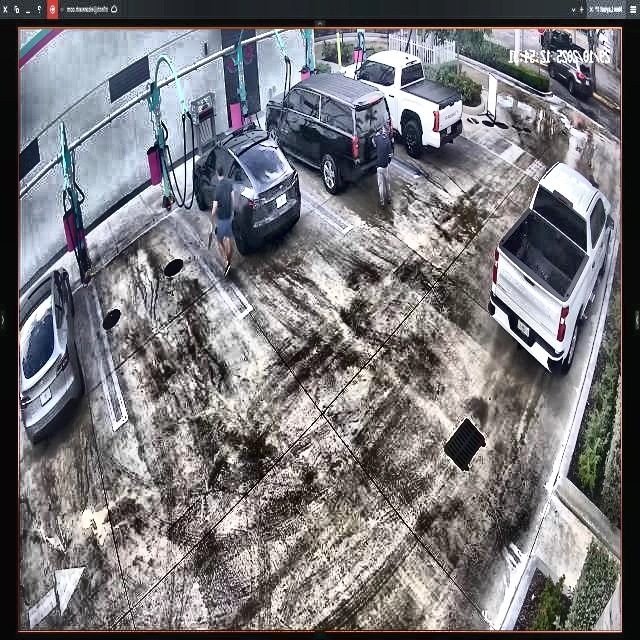Car: (266, 74, 392, 185), (192, 127, 298, 253), (338, 52, 462, 152)
